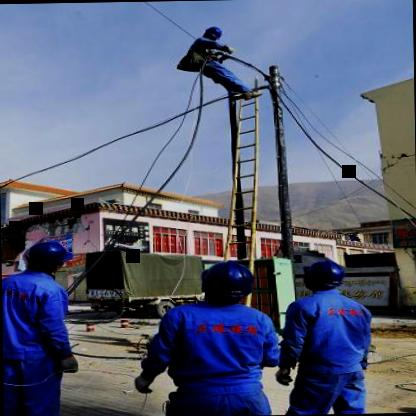helmet: (199, 256, 256, 305), (300, 252, 349, 292), (25, 236, 71, 274), (197, 21, 228, 45)
